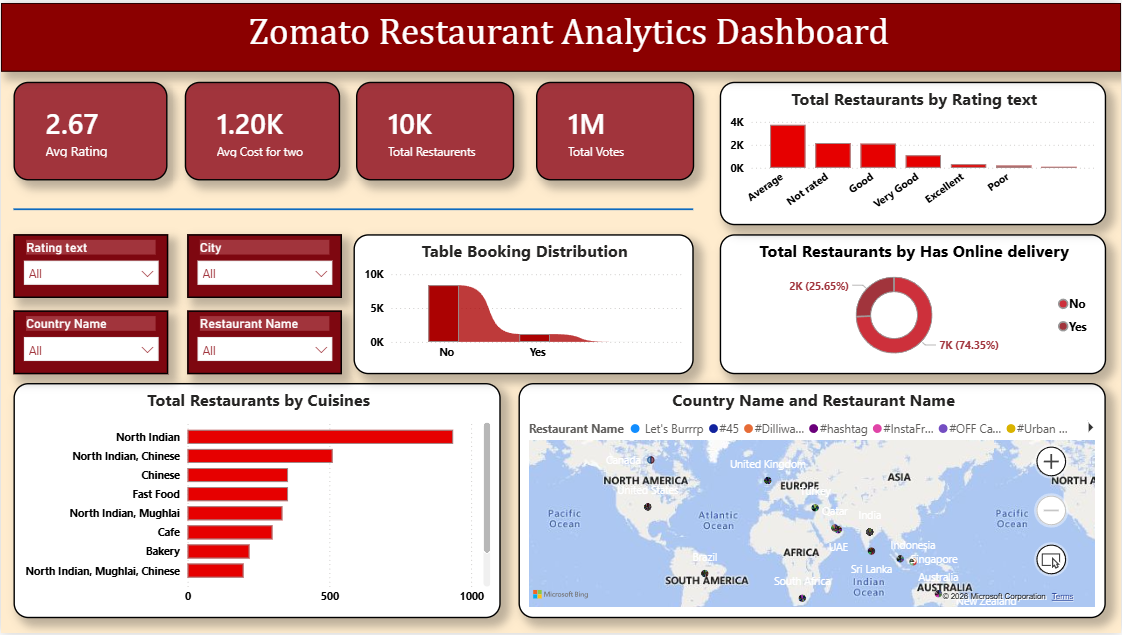

The dashboard page shown, as its layout file describes it:
{"tool":"powerbi","page":{"name":"Zomato_restaurants","canvas":[1280,720],"ordinal":0},"visuals":[{"type":"cardVisual","fields":{"Data":["zomato_restaurants.Total Votes"]},"box":[610.9,90,180.5,112.9],"z":0},{"type":"barChart","fields":{"Category":["zomato_restaurants.Cuisines"],"Y":["zomato_restaurants.Total Restaurants"]},"box":[14.3,434.3,557.1,268.6],"z":1000},{"type":"slicer","fields":{"Values":["zomato_restaurants.Country Name"]},"box":[14.3,351.6,177.1,72.7],"z":2000},{"type":"cardVisual","fields":{"Data":["zomato_restaurants.Total Restaurants"]},"box":[405.2,90,180.5,112.9],"z":3000},{"type":"map","fields":{"Category":["zomato_restaurants.Country Name"],"Series":["zomato_restaurants.Restaurant Name"]},"box":[591.4,434.3,671.4,268.6],"z":4000},{"type":"slicer","fields":{"Values":["zomato_restaurants.Rating text"]},"box":[14.3,264.3,177.1,72.7],"z":5000},{"type":"cardVisual","fields":{"Data":["zomato_restaurants.Avg Cost for Two"]},"box":[210.5,90,177.4,112.9],"z":6000},{"type":"donutChart","fields":{"Y":["zomato_restaurants.Total Restaurants"],"Category":["zomato_restaurants.Has Online delivery"]},"box":[821.4,264.3,441.4,160],"z":7000},{"type":"cardVisual","fields":{"Data":["zomato_restaurants.Avg Rating"]},"box":[14.3,90,175.8,112.9],"z":8000},{"type":"clusteredColumnChart","fields":{"Category":["zomato_restaurants.Rating text"],"Y":["zomato_restaurants.Total Restaurants"]},"box":[821.4,90,441.4,164.3],"z":9000},{"type":"slicer","fields":{"Values":["zomato_restaurants.Restaurant Name"]},"box":[212.9,351.6,177.1,72.7],"z":10000},{"type":"textbox","box":[0,0,1280,78.6],"z":11000},{"type":"slicer","fields":{"Values":["zomato_restaurants.City"]},"box":[212.9,264.3,177.1,72.7],"z":12000},{"type":"ribbonChart","title":"Table Booking Distribution ","fields":{"Y":["CountNonNull(zomato_restaurants.Restaurant Name)"],"Category":["zomato_restaurants.Has Table booking"]},"box":[402.9,264.3,388.6,160],"z":13000},{"type":"shape","box":[14.3,207.1,777.1,57.1],"z":14000}]}

Visuals, with their boxes in screenshot pixels (x1, y1, x2, y2), scaled from the page's 1280x720 canvas onto the 1122x635 screenshot:
cardVisual - zomato_restaurants.Total Votes: {"x1": 535, "y1": 79, "x2": 694, "y2": 179}
barChart - zomato_restaurants.Cuisines x zomato_restaurants.Total Restaurants: {"x1": 13, "y1": 383, "x2": 501, "y2": 620}
slicer - zomato_restaurants.Country Name: {"x1": 13, "y1": 310, "x2": 168, "y2": 374}
cardVisual - zomato_restaurants.Total Restaurants: {"x1": 355, "y1": 79, "x2": 513, "y2": 179}
map - zomato_restaurants.Country Name x zomato_restaurants.Restaurant Name: {"x1": 518, "y1": 383, "x2": 1107, "y2": 620}
slicer - zomato_restaurants.Rating text: {"x1": 13, "y1": 233, "x2": 168, "y2": 297}
cardVisual - zomato_restaurants.Avg Cost for Two: {"x1": 185, "y1": 79, "x2": 340, "y2": 179}
donutChart - zomato_restaurants.Total Restaurants x zomato_restaurants.Has Online delivery: {"x1": 720, "y1": 233, "x2": 1107, "y2": 374}
cardVisual - zomato_restaurants.Avg Rating: {"x1": 13, "y1": 79, "x2": 167, "y2": 179}
clusteredColumnChart - zomato_restaurants.Rating text x zomato_restaurants.Total Restaurants: {"x1": 720, "y1": 79, "x2": 1107, "y2": 224}
slicer - zomato_restaurants.Restaurant Name: {"x1": 187, "y1": 310, "x2": 342, "y2": 374}
textbox: {"x1": 0, "y1": 0, "x2": 1121, "y2": 69}
slicer - zomato_restaurants.City: {"x1": 187, "y1": 233, "x2": 342, "y2": 297}
"Table Booking Distribution " ribbonChart: {"x1": 353, "y1": 233, "x2": 694, "y2": 374}
shape: {"x1": 13, "y1": 183, "x2": 694, "y2": 233}
